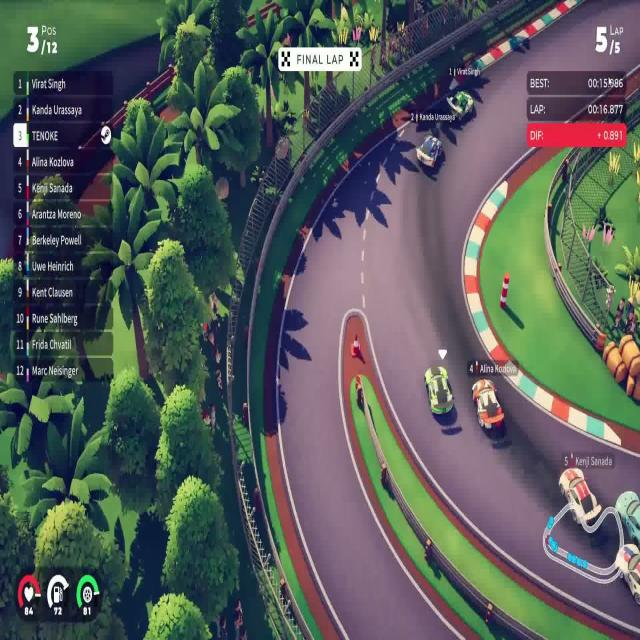car: (558, 466, 602, 528), (471, 377, 505, 435), (423, 364, 454, 417), (415, 134, 443, 169), (446, 89, 474, 122)
